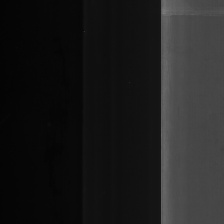welding_line: (160, 8, 224, 21)
